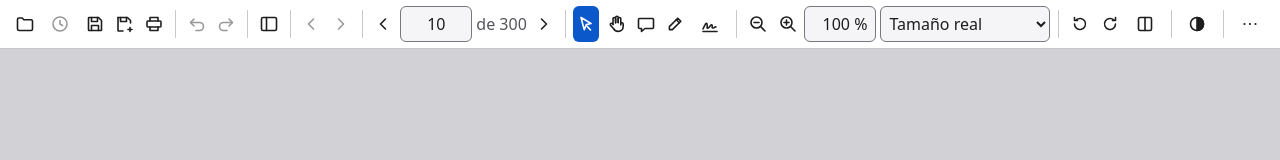
it: Campo de página › Esc restaura el número de la página actual
This screenshot has width=1280, height=160.
Replace the text in the field named "Número de página" with "400" at [436, 24], box [400,6,472,42]
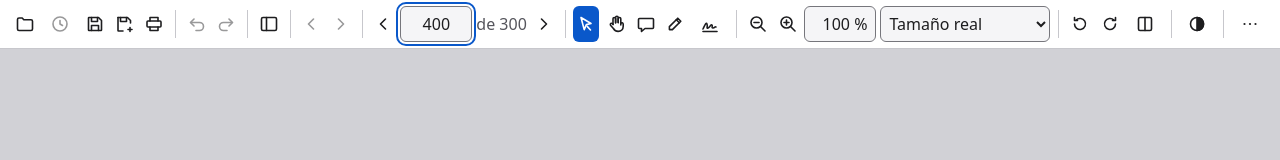
Press Escape
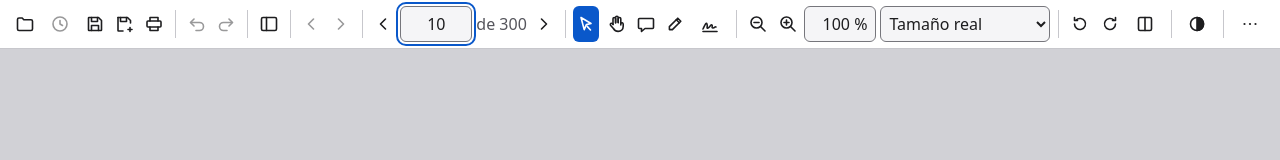
Now the field named "Número de página" holds "10", box [400,6,472,42]
